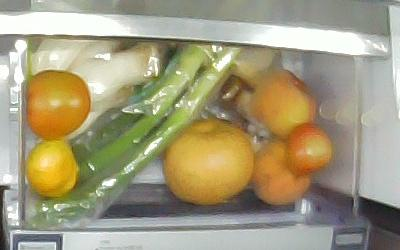peach: (249, 70, 317, 136), (250, 137, 310, 203)
pear: (163, 119, 254, 205)
tangerine: (27, 139, 76, 196)
tomato: (27, 71, 91, 138), (285, 124, 332, 174)
